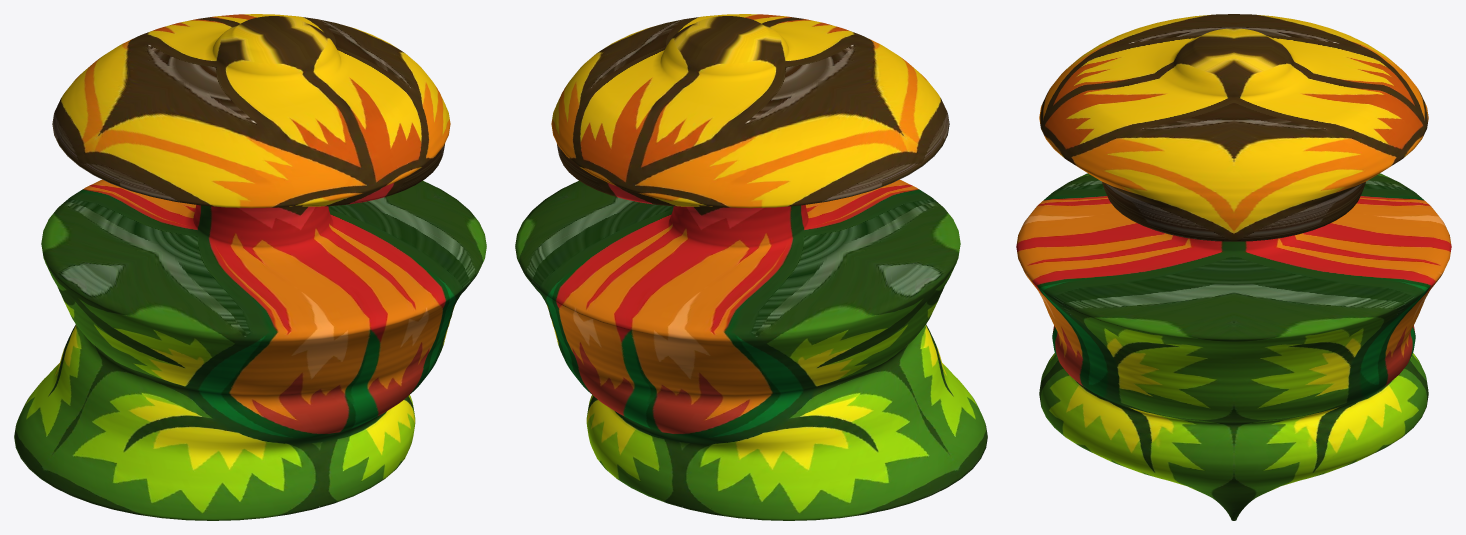
Rendered from trumpet_flower.glb.
The picture shows the model from 3 angles, left to right: view 1: azimuth 30°, elevation 25°; view 2: azimuth 150°, elevation 25°; view 3: azimuth 270°, elevation 25°; orthographic projection. The views are drawn at different scales.
Visible parts, largest first — view 1: trumpet_flower; view 2: trumpet_flower; view 3: trumpet_flower.
Part boxes in pixels (x1,y1,x2,y2): trumpet_flower: (14, 14, 486, 520); trumpet_flower: (515, 14, 987, 520); trumpet_flower: (1016, 14, 1451, 520).
Bounding box in the file's own units: 0.9912 × 1.05 × 0.9177.
1 material, 1 textured.
